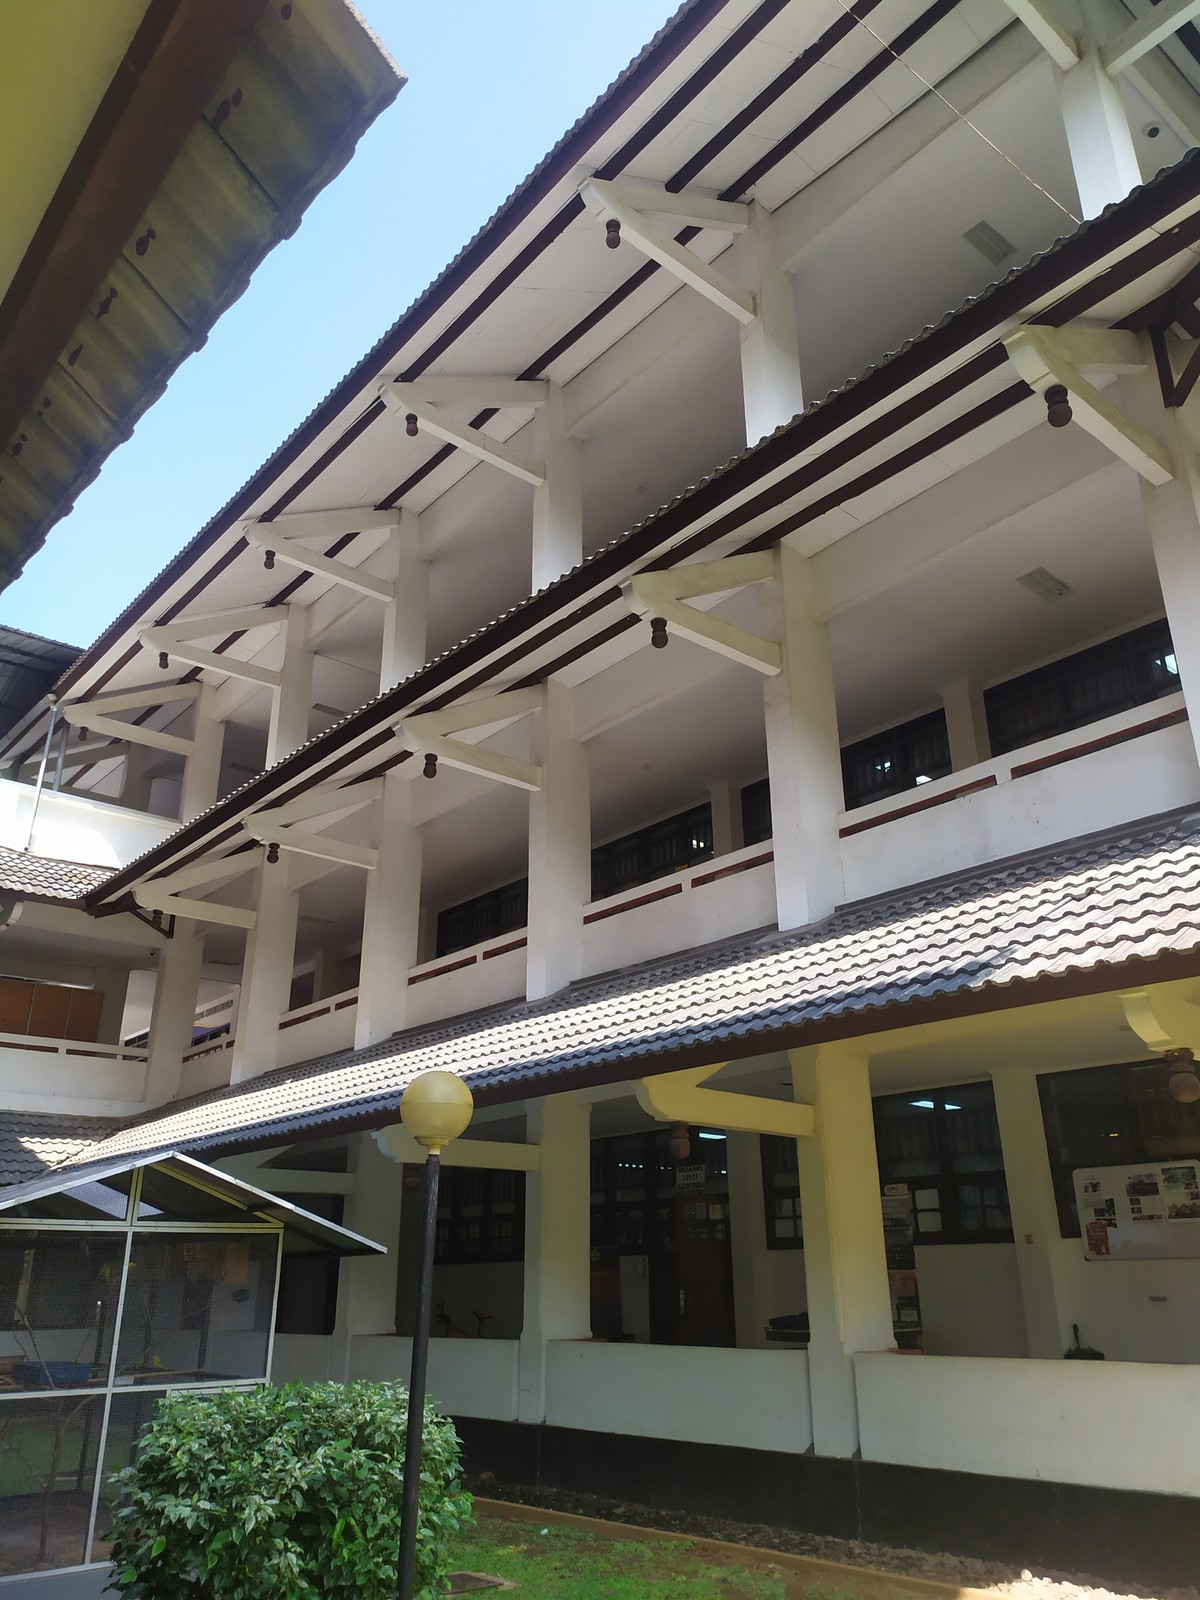concrete beam: (695, 1090, 818, 1150), (684, 609, 784, 682), (442, 740, 548, 797), (292, 551, 400, 605), (284, 828, 383, 878), (192, 653, 282, 690)
concrete column: (783, 1056, 905, 1385), (763, 595, 858, 934), (514, 1104, 600, 1380), (524, 716, 600, 1005), (352, 777, 429, 1054), (226, 857, 304, 1083), (326, 1157, 408, 1333), (142, 934, 207, 1102), (374, 540, 432, 687), (262, 620, 324, 747), (171, 690, 224, 808), (522, 490, 587, 574)
